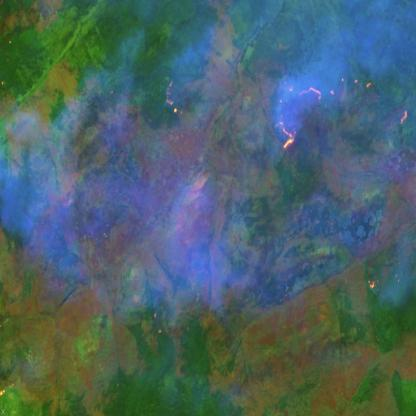fire: (273, 66, 409, 154), (161, 75, 191, 122), (361, 265, 387, 301)
